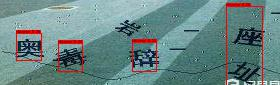chinese: (229, 58, 266, 85), (233, 23, 266, 49), (53, 46, 86, 70), (15, 35, 45, 58), (129, 47, 160, 69), (113, 17, 142, 40)
